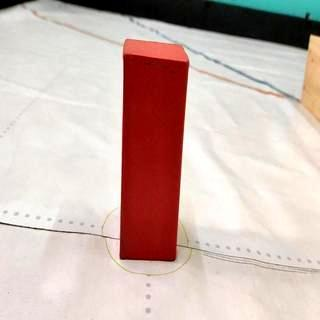redbox: (120, 38, 190, 260)
